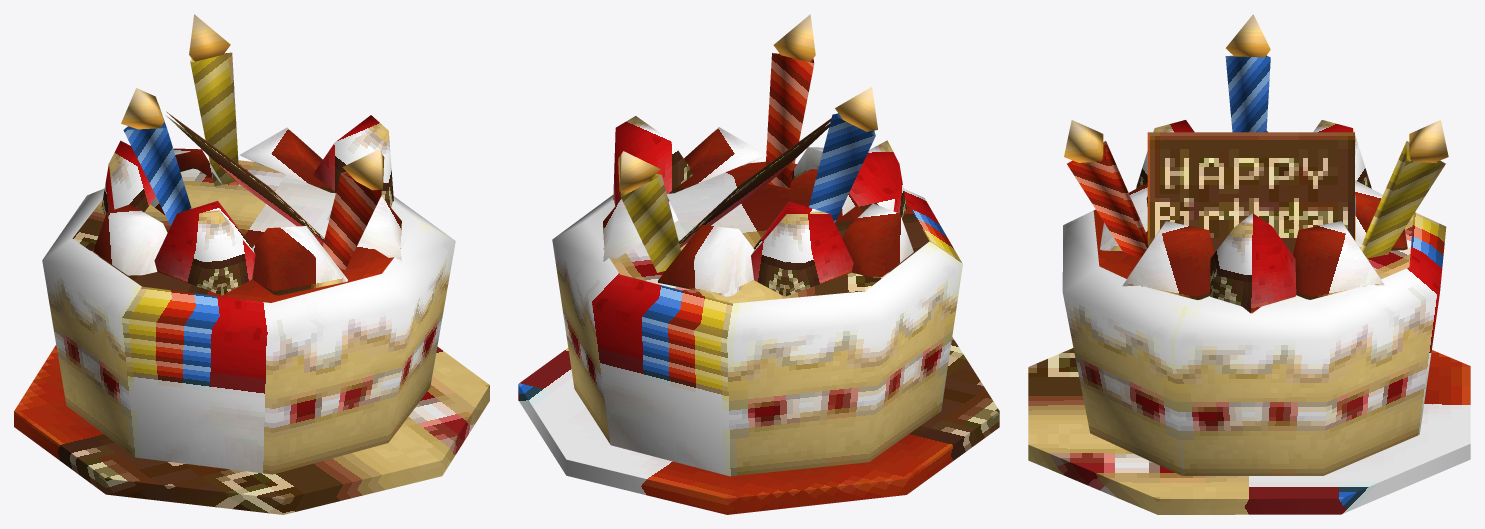
Rendered from F2_Item_Headgear_Party.dae.
3 views of the same model, side by side, from view 1: azimuth 30°, elevation 25°; view 2: azimuth 150°, elevation 25°; view 3: azimuth 270°, elevation 25° (orthographic).
Visible parts, largest first — view 1: _0_0_node; view 2: _0_0_node; view 3: _0_0_node.
Boxes of the visible parts, x1,y1,x2,y2 form: _0_0_node: (14, 14, 489, 514); _0_0_node: (518, 14, 999, 514); _0_0_node: (1028, 14, 1470, 514).
Bounding box in the file's own units: 1.71 × 1.5 × 1.71.
1 material, 1 textured.
